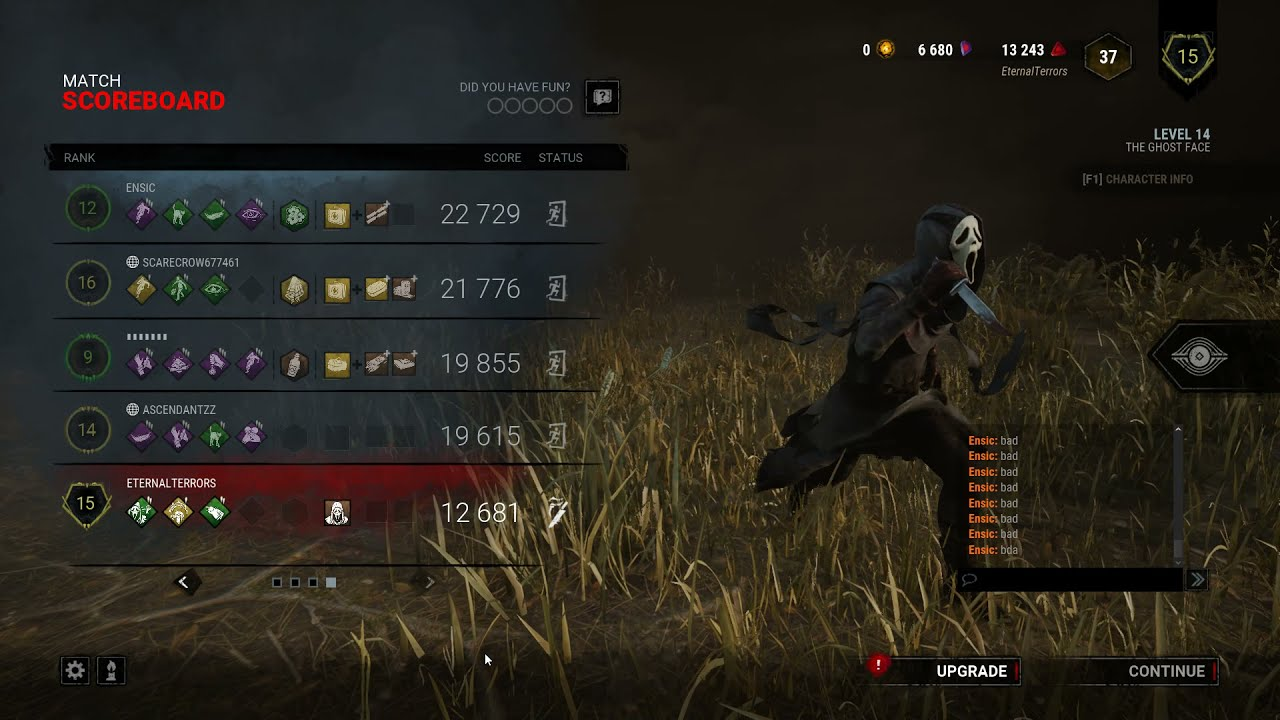blank_perk: (235, 275, 268, 306), (236, 496, 269, 527)
borrowed_time: (199, 348, 232, 379)
dark_sense: (199, 274, 232, 305)
dead_hard: (124, 199, 157, 230), (125, 274, 158, 305), (235, 349, 268, 380)
empathy: (235, 421, 268, 452)
im_all_ears: (124, 496, 157, 527)
iron_will: (162, 348, 195, 379)
kindred: (235, 199, 268, 230)
lightweight: (198, 200, 231, 231), (125, 422, 158, 453)
self_care: (125, 348, 158, 379), (162, 422, 195, 453)
spies_from_the_shadow: (198, 496, 231, 527)
spine_chill: (161, 200, 194, 231), (198, 422, 231, 453)
thrilling_tremors: (161, 496, 194, 527)
were_gonna_live_forever: (161, 274, 194, 305)
